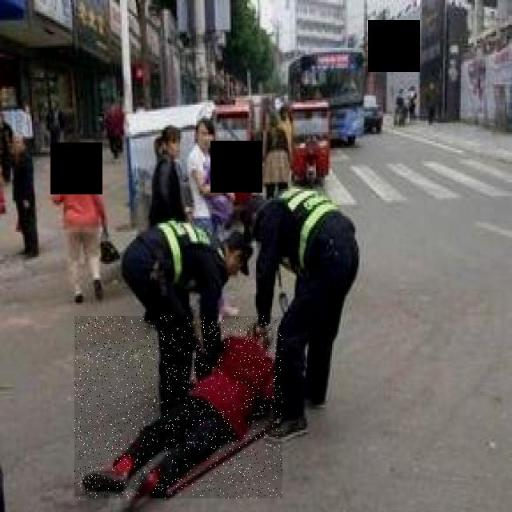Fall: (75, 316, 283, 498)
